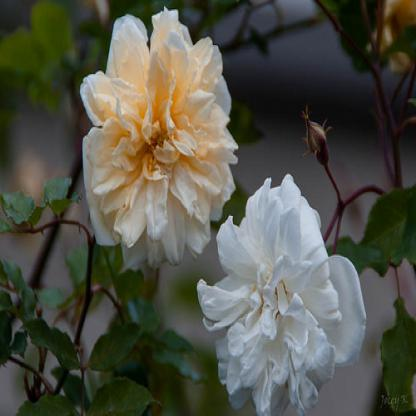ROSE-MAWAR: (70, 4, 365, 412)
